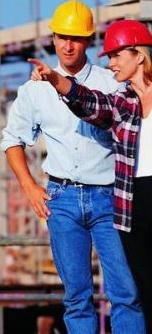hard-hat: (49, 0, 96, 36)
